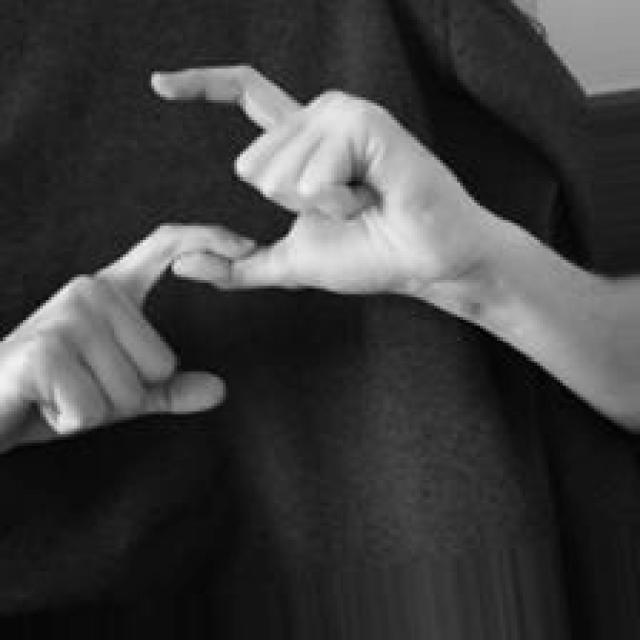S: (0, 60, 471, 468)
